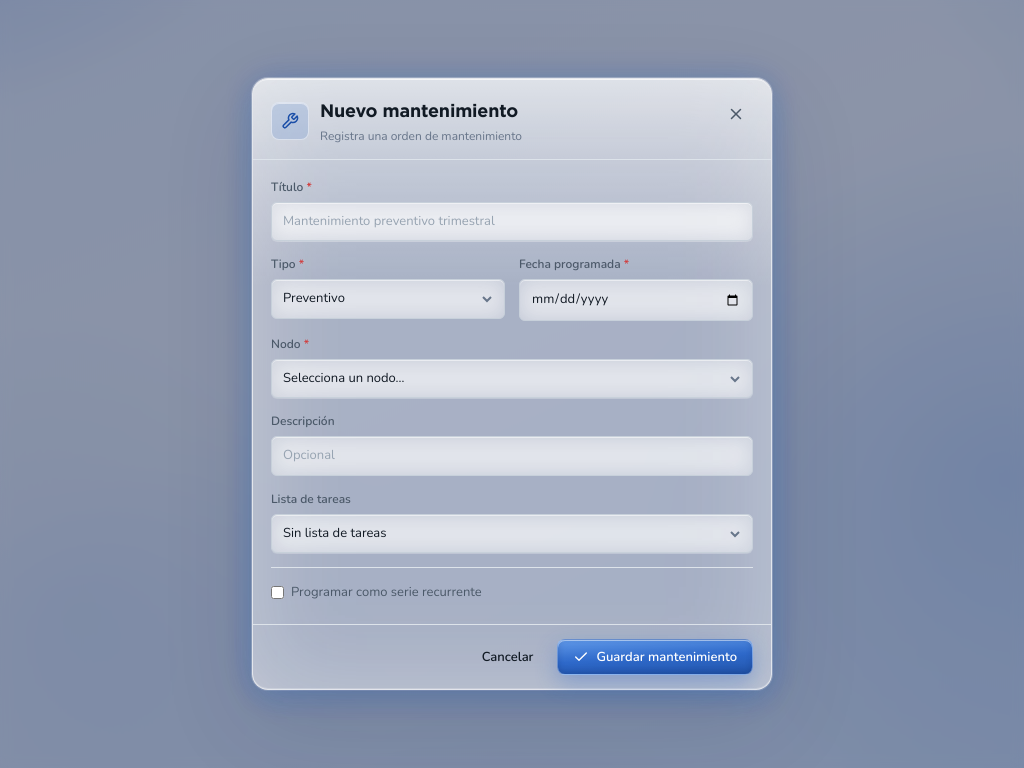
Test: MaintenanceFormModal › CORRECTIVE: muestra Nodo y Equipo como campos separados
Check: the field with placeholder "Mantenimiento preventivo trimestral" is shown, box x1=271 y1=202 x2=753 y2=241
Select "Correctivo" in the dropdown showing "Preventivo". click: (388, 299)
box: x1=271 y1=279 x2=505 y2=319
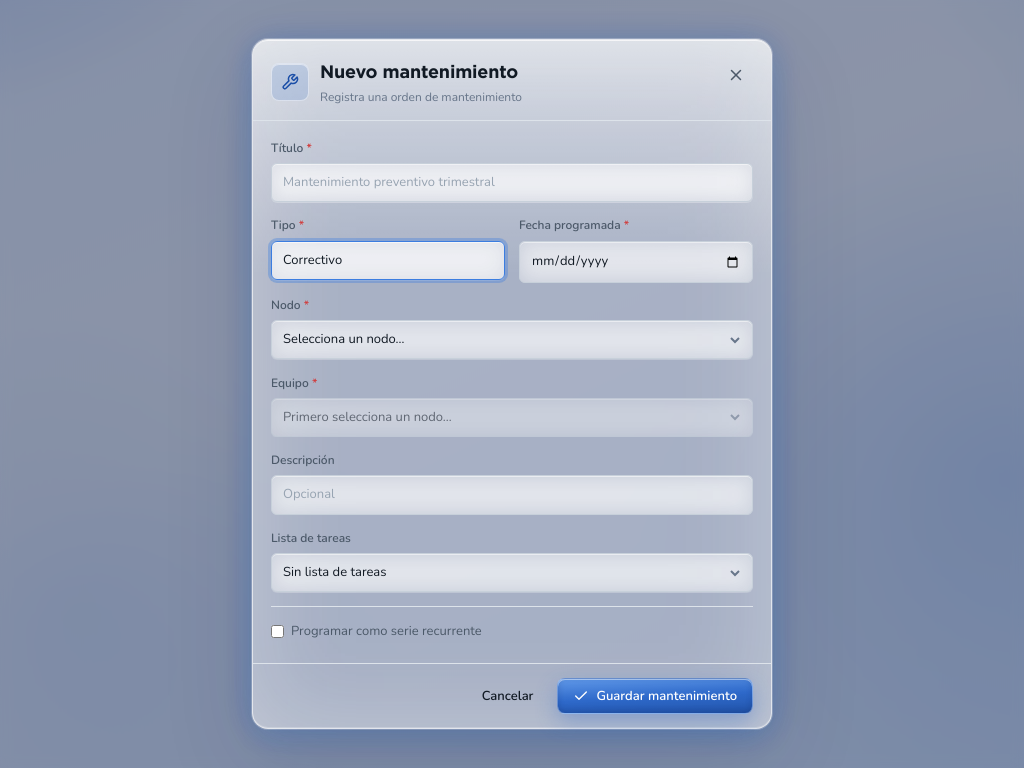
Check: the text "Nodo" is shown, box x1=271 y1=297 x2=301 y2=313
Check: the text "Equipo" is shown, box x1=271 y1=374 x2=309 y2=390
